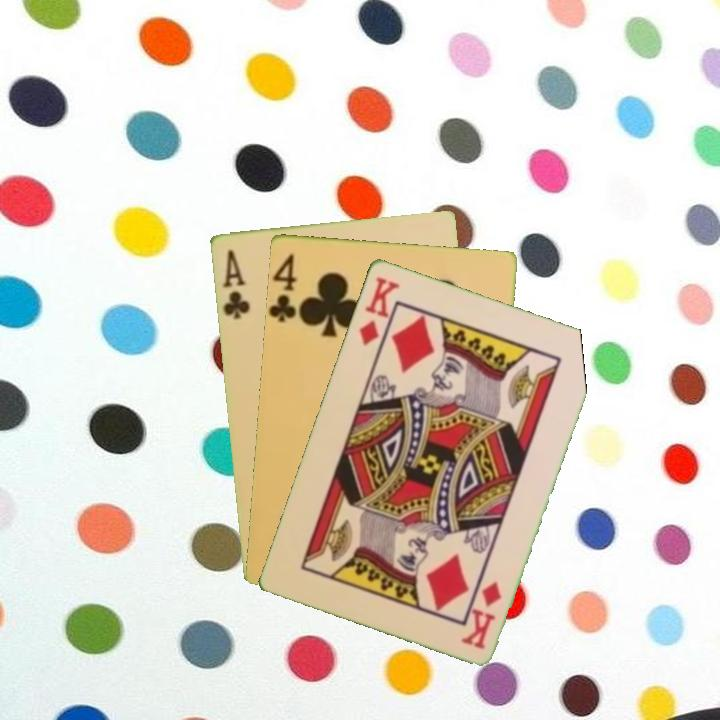4c: (268, 250, 299, 325)
Ac: (218, 246, 253, 322)
Kd: (355, 272, 403, 348), (458, 577, 504, 652)
